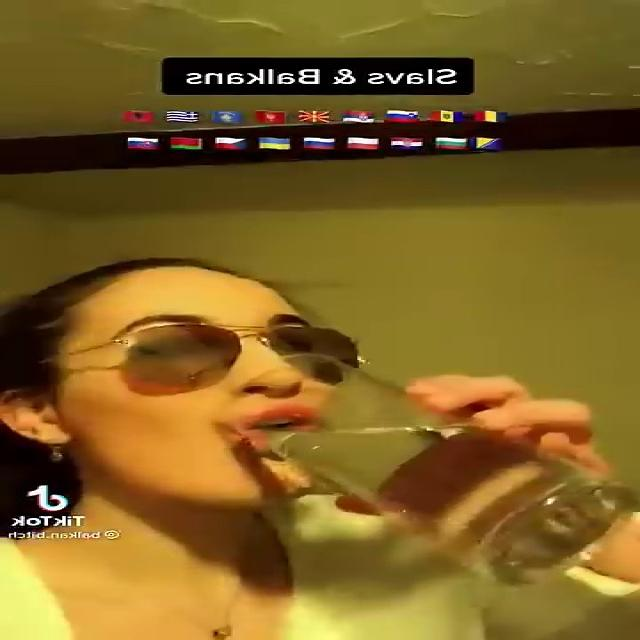Cup: (252, 356, 636, 587)
Hand: (332, 373, 606, 565)
Mouth: (215, 398, 332, 454)
